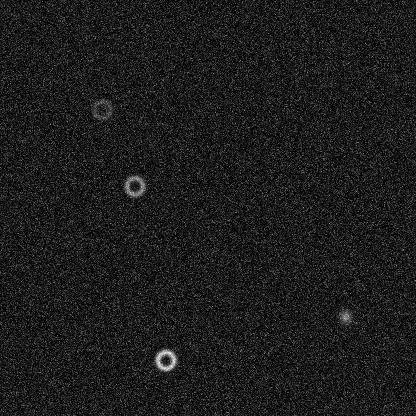Ring: (89, 97, 113, 121), (122, 174, 146, 198), (153, 348, 177, 372)
Spot: (337, 308, 353, 324)
